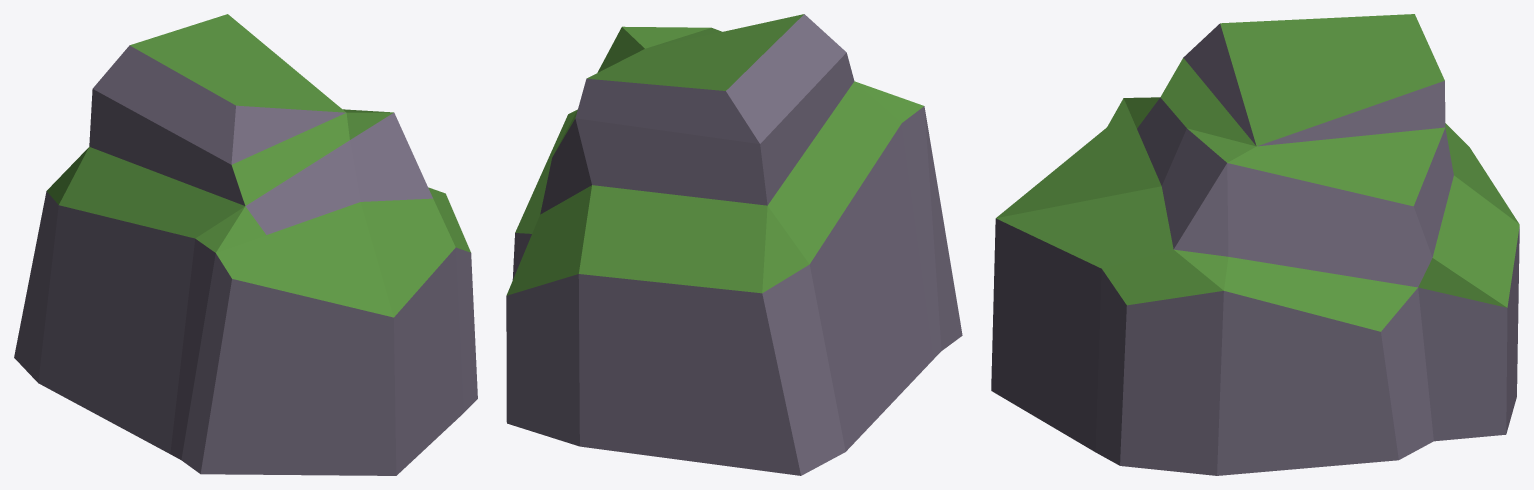
The model's file is Rock_Moss_7.glb.
The picture shows the model from 3 angles, left to right: view 1: azimuth 30°, elevation 25°; view 2: azimuth 150°, elevation 25°; view 3: azimuth 270°, elevation 25°; orthographic projection. The views are drawn at different scales.
Parts seen in each view (by area): view 1: Rock_Moss_7_Cube.028; view 2: Rock_Moss_7_Cube.028; view 3: Rock_Moss_7_Cube.028.
Boxes of the visible parts, x1,y1,x2,y2 form: Rock_Moss_7_Cube.028: [14, 14, 477, 475]; Rock_Moss_7_Cube.028: [506, 14, 962, 475]; Rock_Moss_7_Cube.028: [991, 14, 1519, 475].
Bounding box in the file's own units: 0.8755 × 0.7739 × 1.1.
